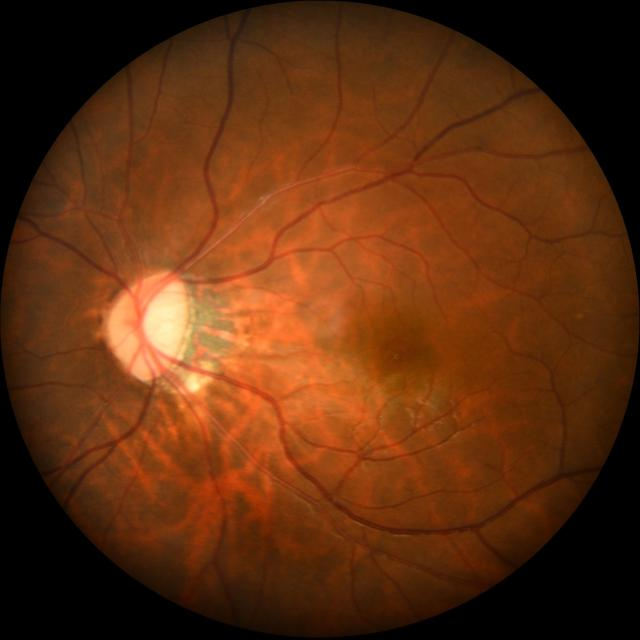OC: (142, 286, 187, 354)
OD: (109, 269, 193, 378)
